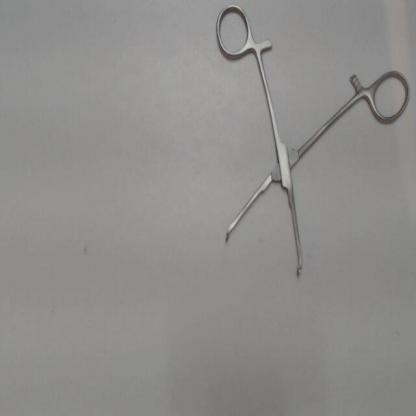Allis Tissue Forceps: (211, 1, 413, 283)
